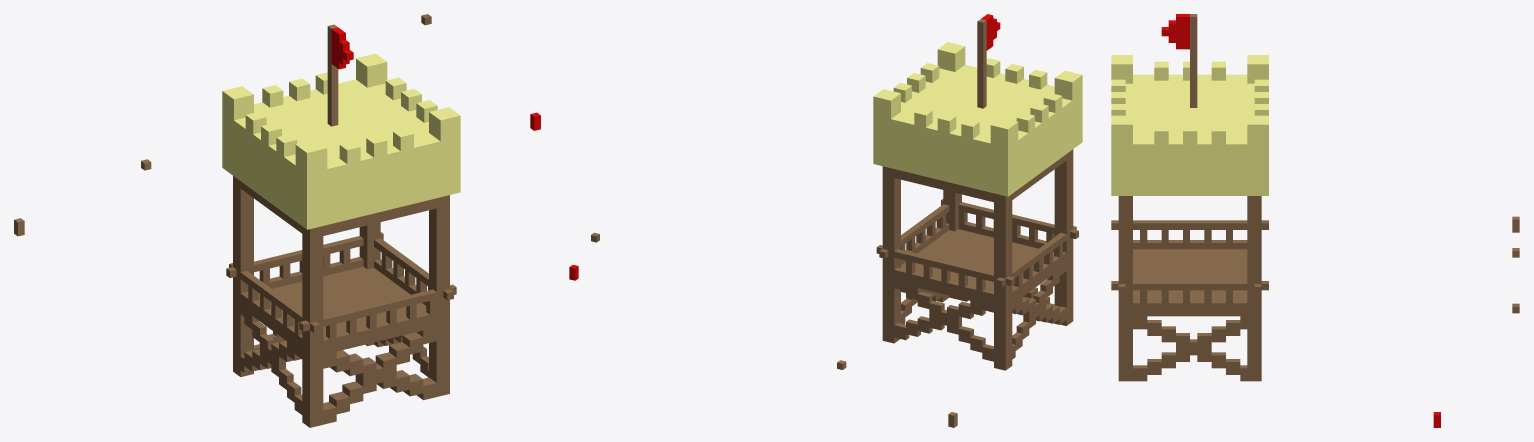
The model's file is Beachfortress2.obj.
3 views of the same model, side by side, from view 1: azimuth 30°, elevation 25°; view 2: azimuth 150°, elevation 25°; view 3: azimuth 270°, elevation 25° (orthographic). The views are drawn at different scales.
Size of the model in its own units: 72 by 51 by 57.
Materials: 1 (1 with a texture image).
